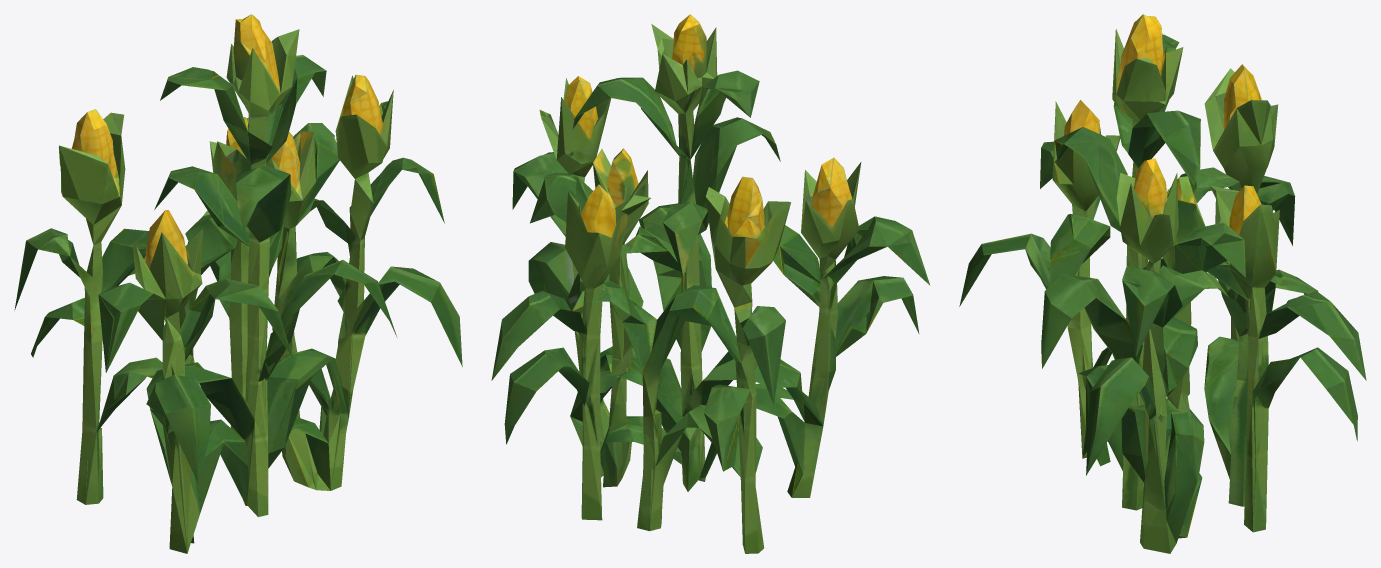
Rendered from crop-corn.glb.
3 views of the same model, side by side, from view 1: azimuth 30°, elevation 25°; view 2: azimuth 150°, elevation 25°; view 3: azimuth 270°, elevation 25° (orthographic). The views are drawn at different scales.
Parts seen in each view (by area): view 1: crop-corn-fit; view 2: crop-corn-fit; view 3: crop-corn-fit.
Boxes of the visible parts, x1,y1,x2,y2 form: crop-corn-fit: [14, 14, 462, 553]; crop-corn-fit: [491, 14, 930, 553]; crop-corn-fit: [959, 14, 1366, 553].
Bounding box in the file's own units: 1.63 × 2 × 1.5.
1 material, 1 textured.
